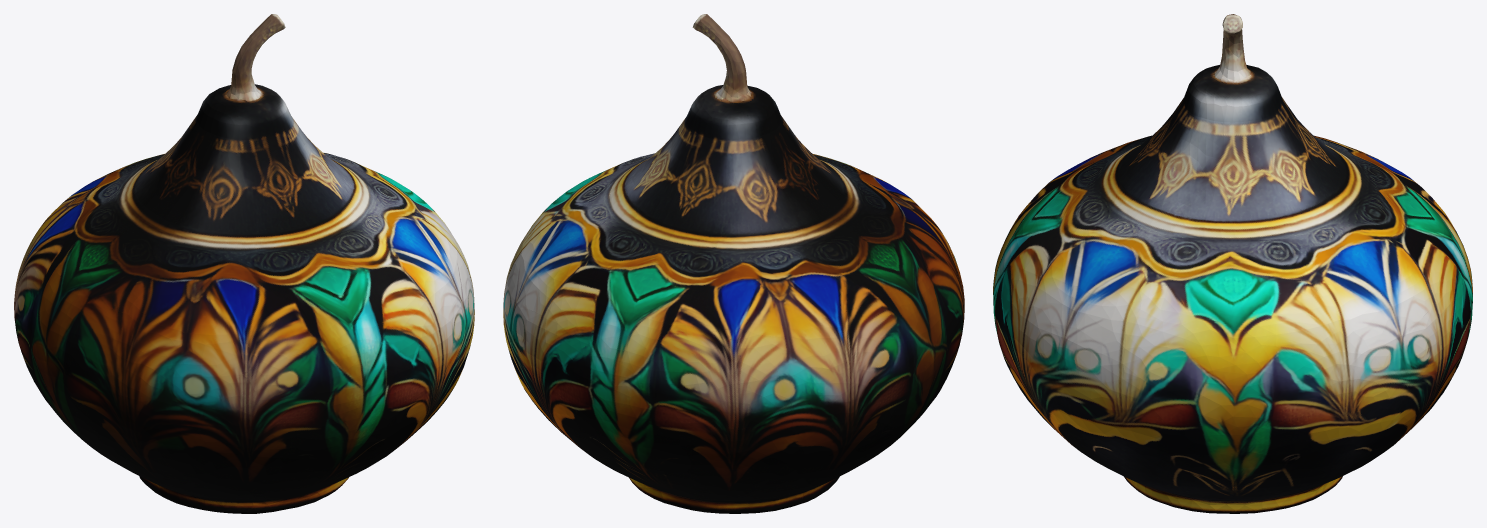
File: dried-gourd-container-art-deco.jpeg.glb
3 renders of one model, left to right at view 1: azimuth 30°, elevation 25°; view 2: azimuth 150°, elevation 25°; view 3: azimuth 270°, elevation 25°, orthographic. The views are drawn at different scales.
Parts seen in each view (by area): view 1: world; view 2: world; view 3: world.
Part boxes in pixels (x1,y1,x2,y2): world: (14,14,474,513); world: (503,14,964,513); world: (993,14,1472,513).
Size of the model in its own units: 0.9308 by 1 by 0.9286.
Materials: 1 (1 with a texture image).
